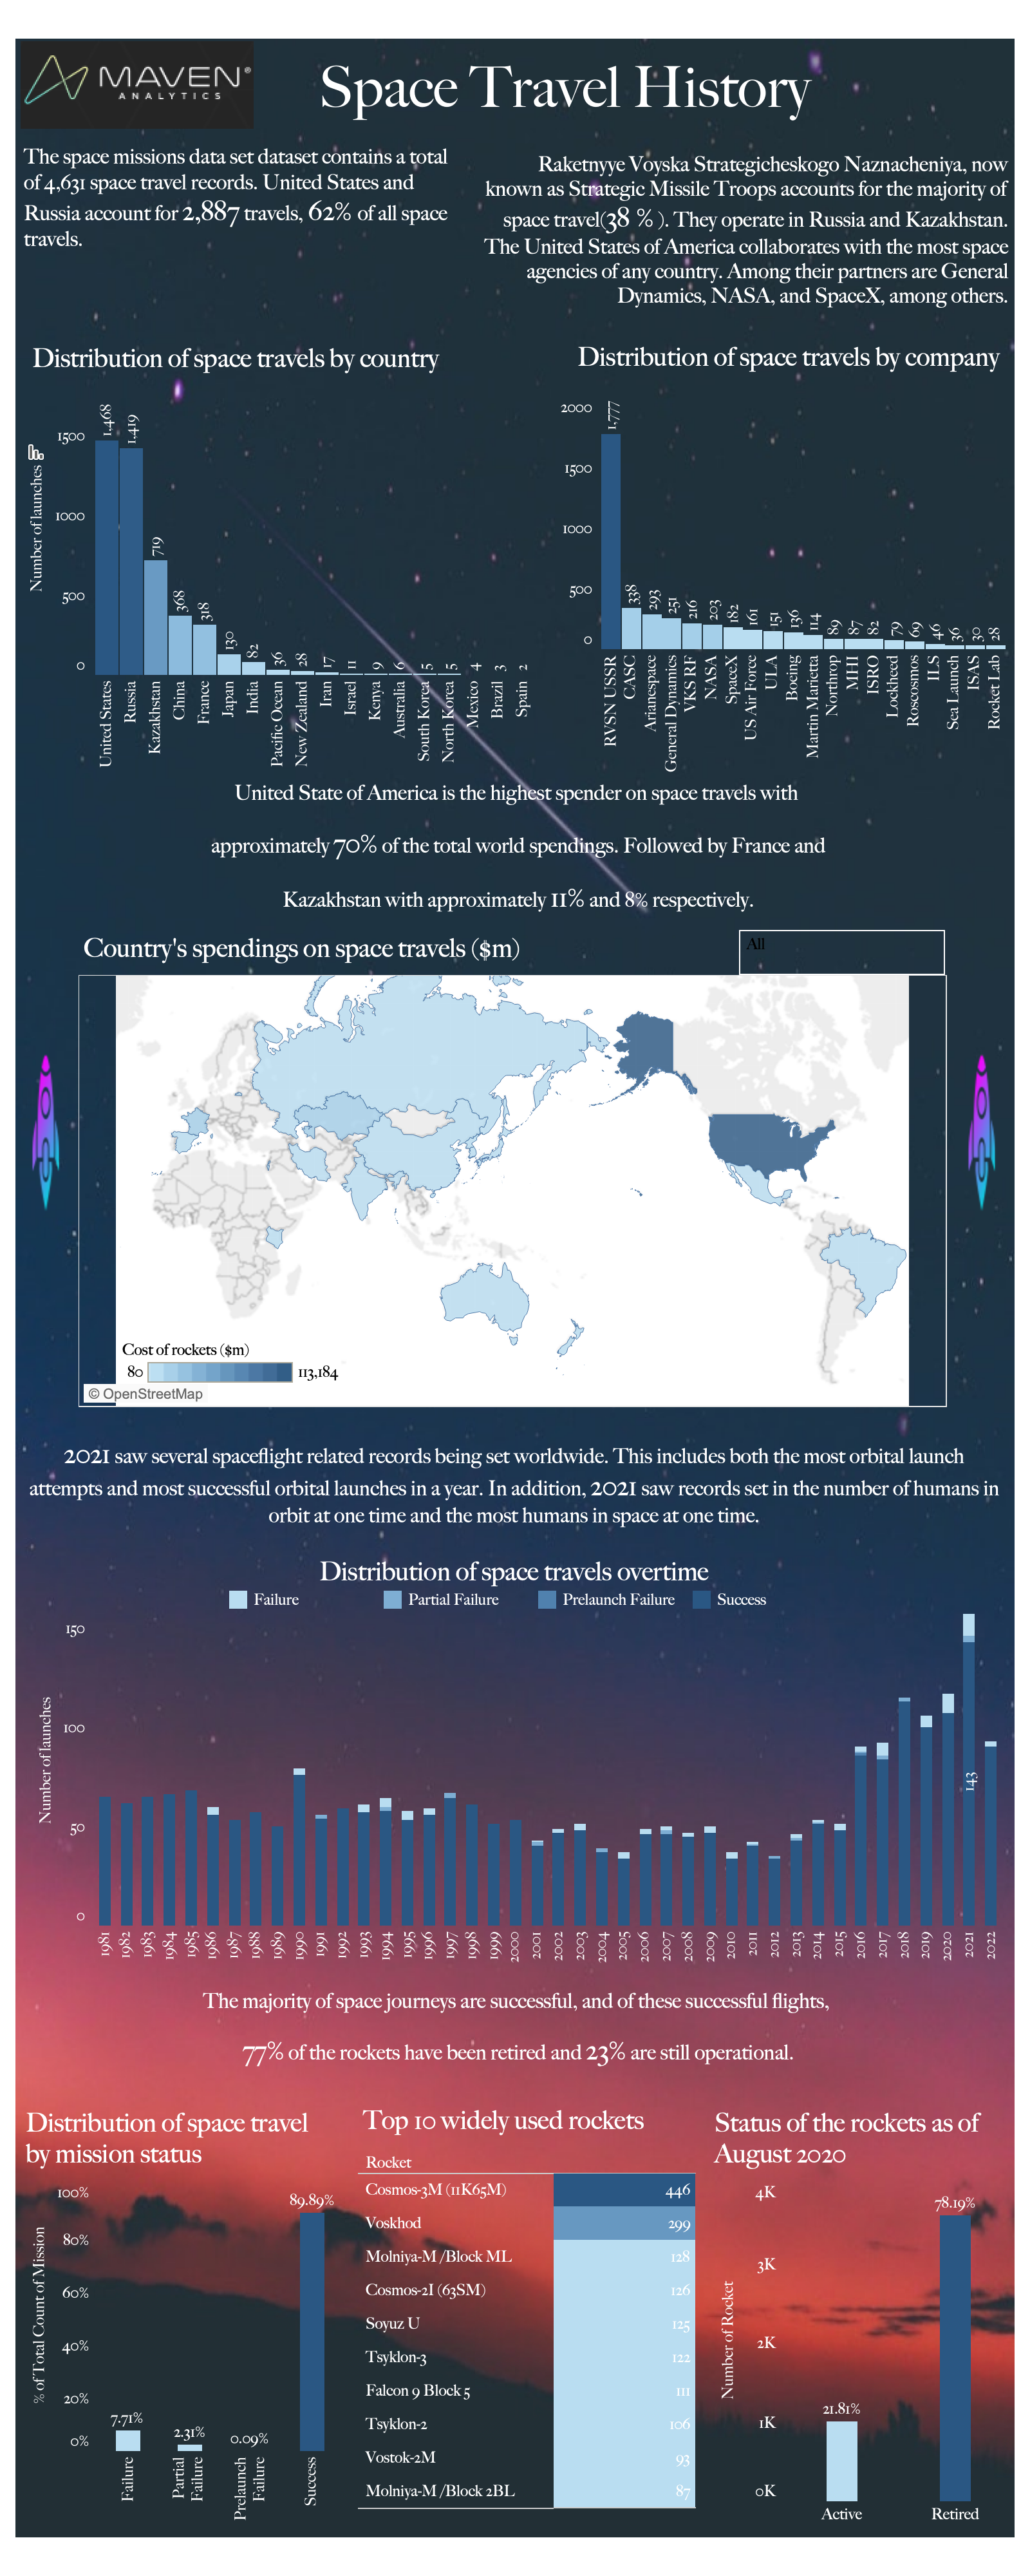

The page's visual inventory and layout, read from the dashboard file:
{"tool":"tableau","page":{"name":"Dashboard 1","canvas":[800,2000],"ordinal":0},"visuals":[{"type":"image","param":"Image/diego-ph-5LOhydOtTKU-unsplash.jpg","box":[8,8,784,1984]},{"type":"image","param":"Image/Screen Shot 2022-08-04 at 9.35.32 PM.png","box":[16,32,224,68]},{"type":"text","box":[245,36,540,64]},{"type":"text","box":[16,104,345,103]},{"type":"text","box":[369,111,417,141]},{"type":"worksheet","title":"distri of space t by coy, top 20 coys","mark":"Automatic","rows":["Mission"],"cols":["Company"],"box":[427,259,354,345]},{"type":"worksheet","title":"distri of space t by country","mark":"Bar","rows":["Mission"],"cols":["country"],"box":[21,260,395,343]},{"type":"text","box":[22,607,758,104]},{"type":"worksheet","title":"Number of space travels by country","mark":"Automatic","box":[61,718,675,375]},{"type":"filter","title":"Number of space travels by country","param":"[federated.0eecbfr0ajqk0x191j4ci11o2ogh].[none:country:nk]","box":[574,722,160,35]},{"type":"image","param":"Image/launch.png","box":[14,768,43,224]},{"type":"image","param":"Image/launch.png","box":[741,768,43,224]},{"type":"legend","title":"Number of space travels by country","param":"[federated.0eecbfr0ajqk0x191j4ci11o2ogh].[sum:Price:qk]","box":[95,1037,173,51]},{"type":"text","box":[20,1101,759,102]},{"type":"worksheet","title":"space travel over time","mark":"Bar","rows":["Mission"],"cols":["Date"],"box":[21,1202,757,333]},{"type":"legend","title":"space travel over time","param":"[federated.0eecbfr0ajqk0x191j4ci11o2ogh].[none:MissionStatus:nk]","box":[175,1232,537,23]},{"type":"text","box":[25,1535,752,80]},{"type":"worksheet","title":"Sheet 8","mark":"Square","rows":["Rocket"],"box":[278,1628,263,333]},{"type":"worksheet","title":" space travel by mission status","mark":"Automatic","rows":["Mission"],"cols":["MissionStatus"],"box":[16,1630,250,333]},{"type":"worksheet","title":"Status of the rockets","mark":"Automatic","rows":["Rocket"],"cols":["RocketStatus"],"box":[551,1630,235,332]}]}

Visuals, with their boxes in screenshot pixels (x1, y1, x2, y2), scaled from the page's 800x2000 canvas onto the 1030x2576 screenshot:
image: select_region(10, 10, 1020, 2566)
image: select_region(21, 41, 309, 129)
text: select_region(315, 46, 1011, 129)
text: select_region(21, 134, 465, 267)
text: select_region(475, 143, 1012, 325)
"distri of space t by coy, top 20 coys" worksheet: select_region(550, 334, 1006, 778)
"distri of space t by country" worksheet (Bar marks): select_region(27, 335, 536, 777)
text: select_region(28, 782, 1004, 916)
"Number of space travels by country" worksheet: select_region(79, 925, 948, 1408)
"Number of space travels by country" filter: select_region(739, 930, 945, 975)
image: select_region(18, 989, 73, 1278)
image: select_region(954, 989, 1009, 1278)
"Number of space travels by country" legend: select_region(122, 1336, 345, 1401)
text: select_region(26, 1418, 1003, 1549)
"space travel over time" worksheet (Bar marks): select_region(27, 1548, 1002, 1977)
"space travel over time" legend: select_region(225, 1587, 917, 1616)
text: select_region(32, 1977, 1000, 2080)
"Sheet 8" worksheet (Square marks): select_region(358, 2097, 697, 2526)
" space travel by mission status" worksheet: select_region(21, 2099, 342, 2528)
"Status of the rockets" worksheet: select_region(709, 2099, 1012, 2527)
